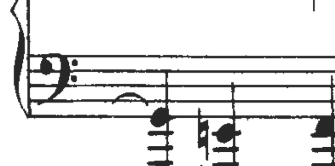bass_clef: (31, 42, 81, 108)
